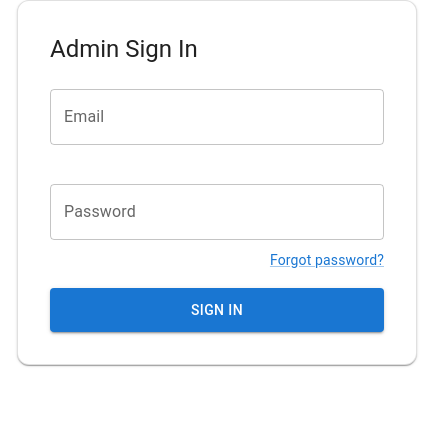
Test case: LoginPage › shows error alert when login() rejects
In the field labelled "Email": (217, 117) [50,89,384,145], type "user@example.com"
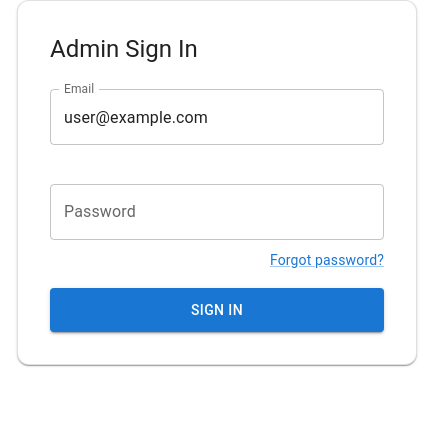
Click the button "Sign In": (217, 310) [50,288,384,332]
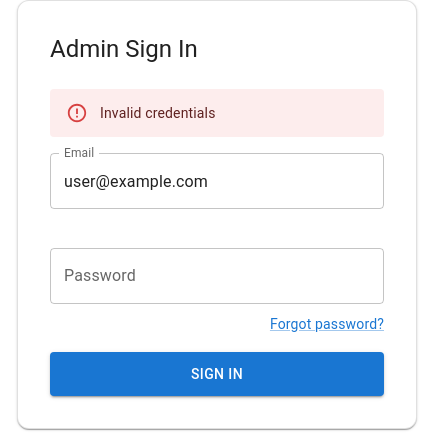
Now the message reads "Invalid credentials", box [100,105,216,121]
